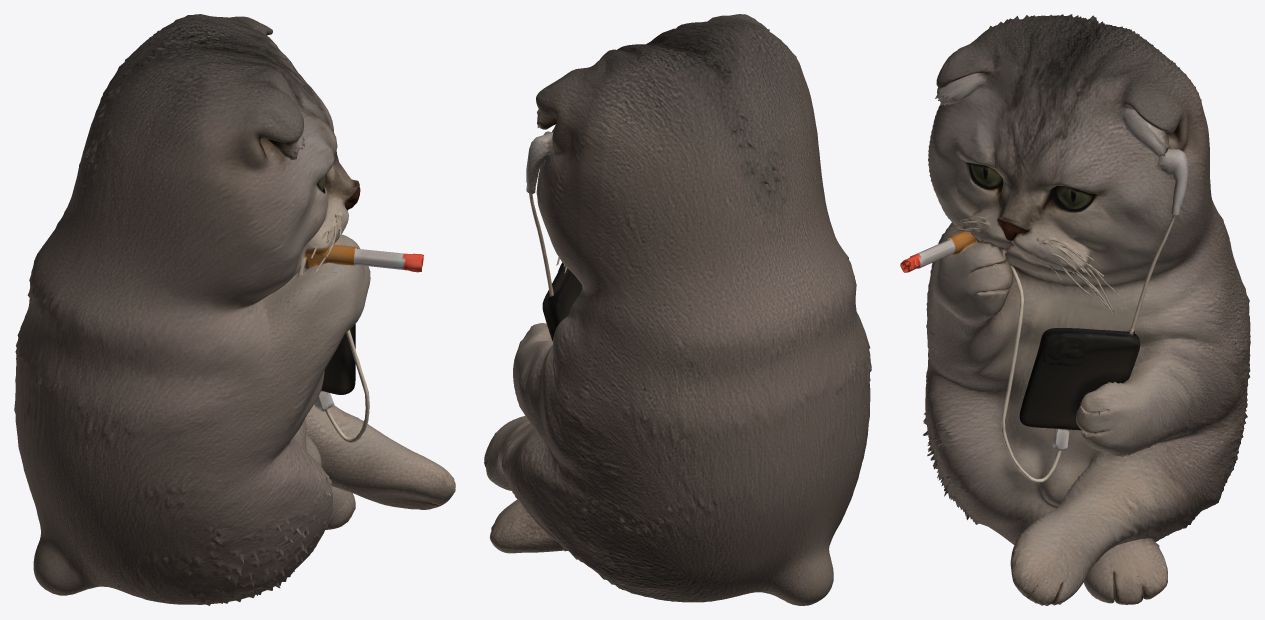
The model's file is Unbothered Mafia Cat.glb.
3 views of the same model, side by side, from view 1: azimuth 30°, elevation 25°; view 2: azimuth 150°, elevation 25°; view 3: azimuth 270°, elevation 25° (orthographic). The views are drawn at different scales.
Visible parts, largest first — view 1: tripo_node_a8177d42-e019-4f67-9768-07890a0e055b; view 2: tripo_node_a8177d42-e019-4f67-9768-07890a0e055b; view 3: tripo_node_a8177d42-e019-4f67-9768-07890a0e055b.
Part boxes in pixels (x1,y1,x2,y2): tripo_node_a8177d42-e019-4f67-9768-07890a0e055b: (14, 14, 455, 605); tripo_node_a8177d42-e019-4f67-9768-07890a0e055b: (484, 14, 871, 605); tripo_node_a8177d42-e019-4f67-9768-07890a0e055b: (900, 14, 1250, 605).
Size of the model in its own units: 0.7421 by 0.9818 by 0.6157.
1 material, 1 textured.
